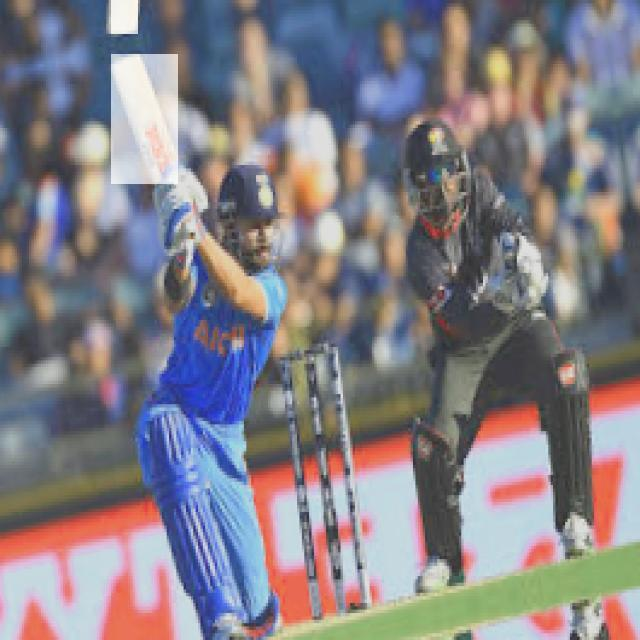bat: (111, 55, 180, 184)
